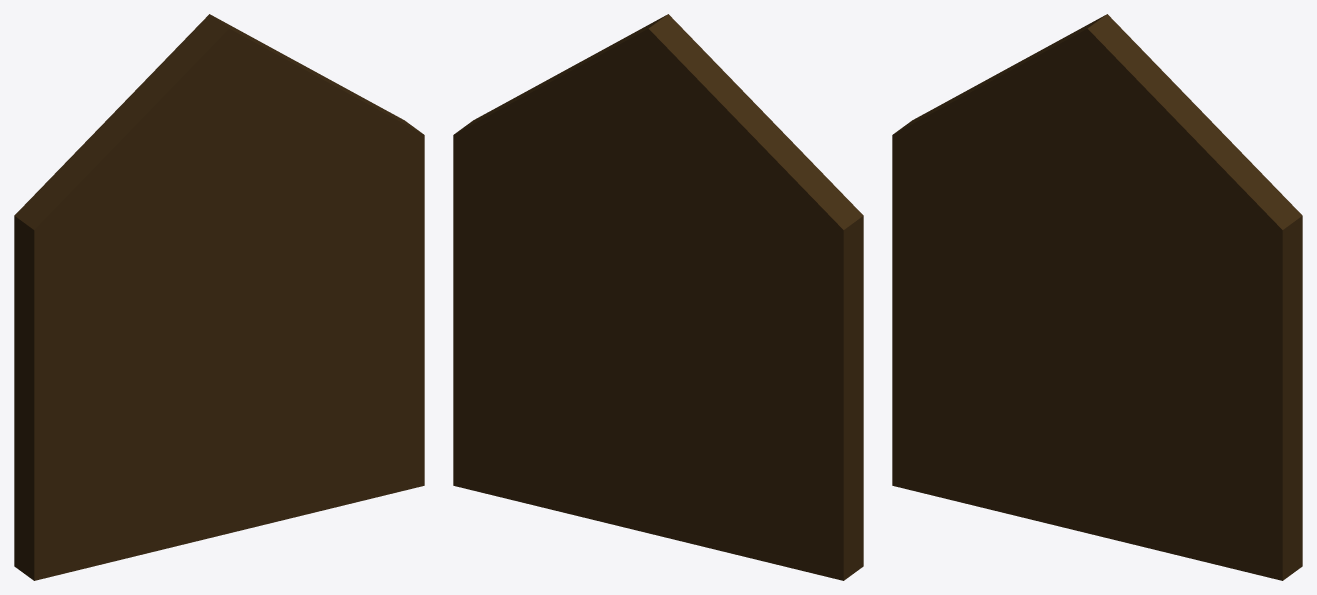
Rendered from fence_door.obj.
3 views of the same model, side by side, from view 1: azimuth 30°, elevation 25°; view 2: azimuth 150°, elevation 25°; view 3: azimuth 330°, elevation 25° (orthographic).
Visible parts, largest first — view 1: fence_door; view 2: fence_door; view 3: fence_door.
Part boxes in pixels (x1,y1,x2,y2): fence_door: [14, 14, 424, 580]; fence_door: [453, 14, 863, 580]; fence_door: [892, 14, 1302, 580].
Size of the model in its own units: 0.0826 by 0.1021 by 0.0073.
1 material, 1 textured.
